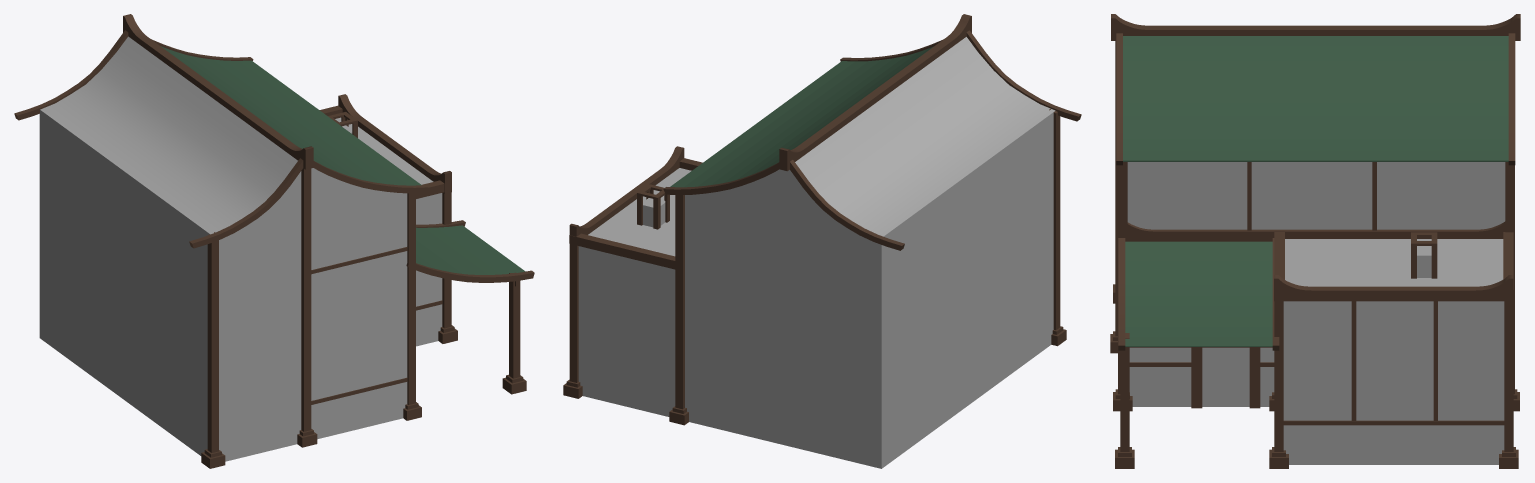
File: Shed.fbx
The picture shows the model from 3 angles, left to right: view 1: azimuth 30°, elevation 25°; view 2: azimuth 150°, elevation 25°; view 3: azimuth 270°, elevation 25°; orthographic projection. The views are drawn at different scales.
Visible parts, largest first — view 1: pCube44, pCube35, pCube32, pCube47, pCube48, pCube36, pCube43, pCube25, pCube31, pCube12, pCube29; view 2: pCube44, pCube32, pCube16, pCube48, pCube47, pCube40, pCube43, pCube42, pCube31, pCube45; view 3: pCube44, pCube32, pCube43, pCube3, pCube49, pCube31, pCube40, pCube12, pCube25, pCube17, pCube36, pCube45 (+9 smaller).
Part boxes in pixels (<box>): pCube44: <box>39,36,525,461</box>; pCube35: <box>297,168,317,447</box>; pCube32: <box>123,14,313,169</box>; pCube47: <box>201,232,225,468</box>; pCube48: <box>14,30,303,248</box>; pCube36: <box>403,193,421,420</box>; pCube43: <box>338,94,451,193</box>; pCube25: <box>502,272,526,394</box>; pCube31: <box>151,39,428,193</box>; pCube12: <box>438,191,457,343</box>; pCube29: <box>406,263,534,282</box>; pCube44: <box>578,37,1055,468</box>; pCube32: <box>779,14,971,171</box>; pCube16: <box>669,195,688,425</box>; pCube48: <box>790,30,1081,250</box>; pCube47: <box>1049,108,1066,346</box>; pCube40: <box>563,244,582,398</box>; pCube43: <box>569,146,684,236</box>; pCube42: <box>569,233,675,269</box>; pCube31: <box>663,39,943,195</box>; pCube45: <box>637,184,669,229</box>; pCube44: <box>1123,36,1508,464</box>; pCube32: <box>1111,14,1520,40</box>; pCube43: <box>1274,275,1513,301</box>; pCube3: <box>1127,221,1505,241</box>; pCube49: <box>1202,347,1249,406</box>; pCube31: <box>1116,33,1515,165</box>; pCube40: <box>1499,299,1518,468</box>; pCube12: <box>1269,301,1288,468</box>; pCube25: <box>1115,333,1134,468</box>; pCube17: <box>1283,420,1504,425</box>; pCube36: <box>1113,162,1132,411</box>; pCube45: <box>1411,232,1437,278</box>.
Size of the model in its own units: 6.51 by 5.38 by 6.01.
